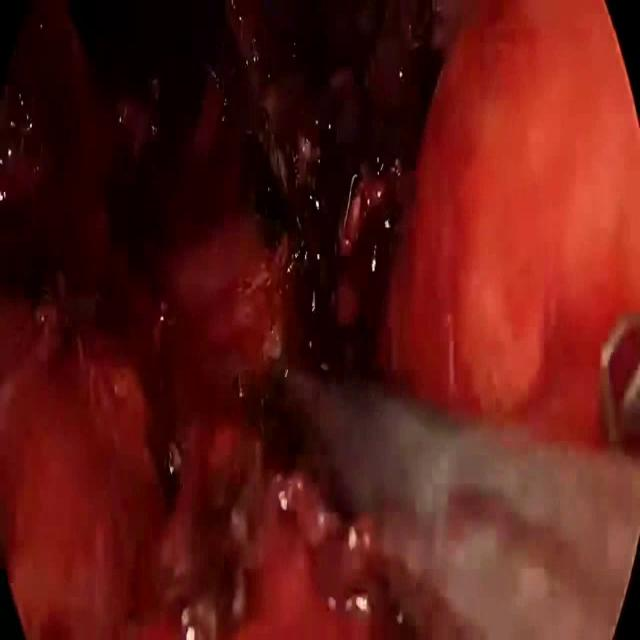surgical-area: (0, 0, 640, 639)
surgical-tool: (281, 309, 640, 639)
